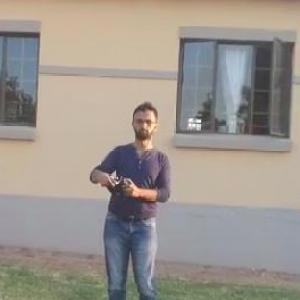follow: (81, 99, 176, 299)
